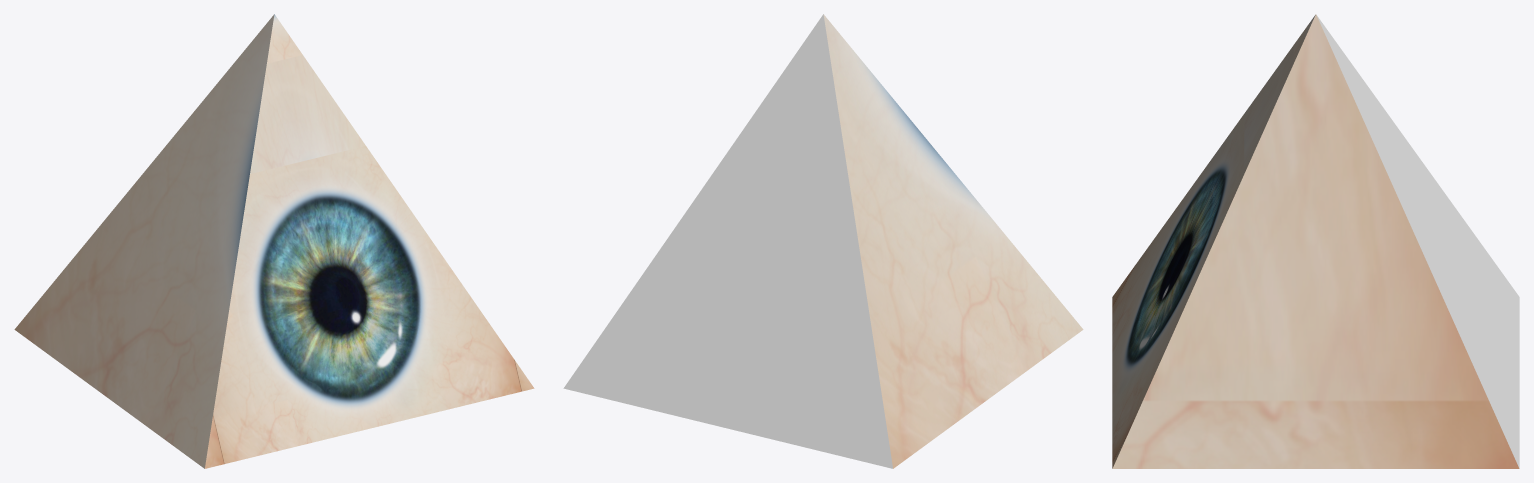
Rendered from pyramid_head.glb.
3 renders of one model, left to right at view 1: azimuth 30°, elevation 25°; view 2: azimuth 150°, elevation 25°; view 3: azimuth 270°, elevation 25°, orthographic. The views are drawn at different scales.
Parts seen in each view (by area): view 1: pyramid head; view 2: pyramid head; view 3: pyramid head.
Boxes of the visible parts, x1=… form: pyramid head: x1=14, y1=14, x2=534, y2=468; pyramid head: x1=563, y1=14, x2=1083, y2=468; pyramid head: x1=1112, y1=14, x2=1519, y2=468.
Size of the model in its own units: 0.642 by 0.642 by 0.642.
1 material, 1 textured.
